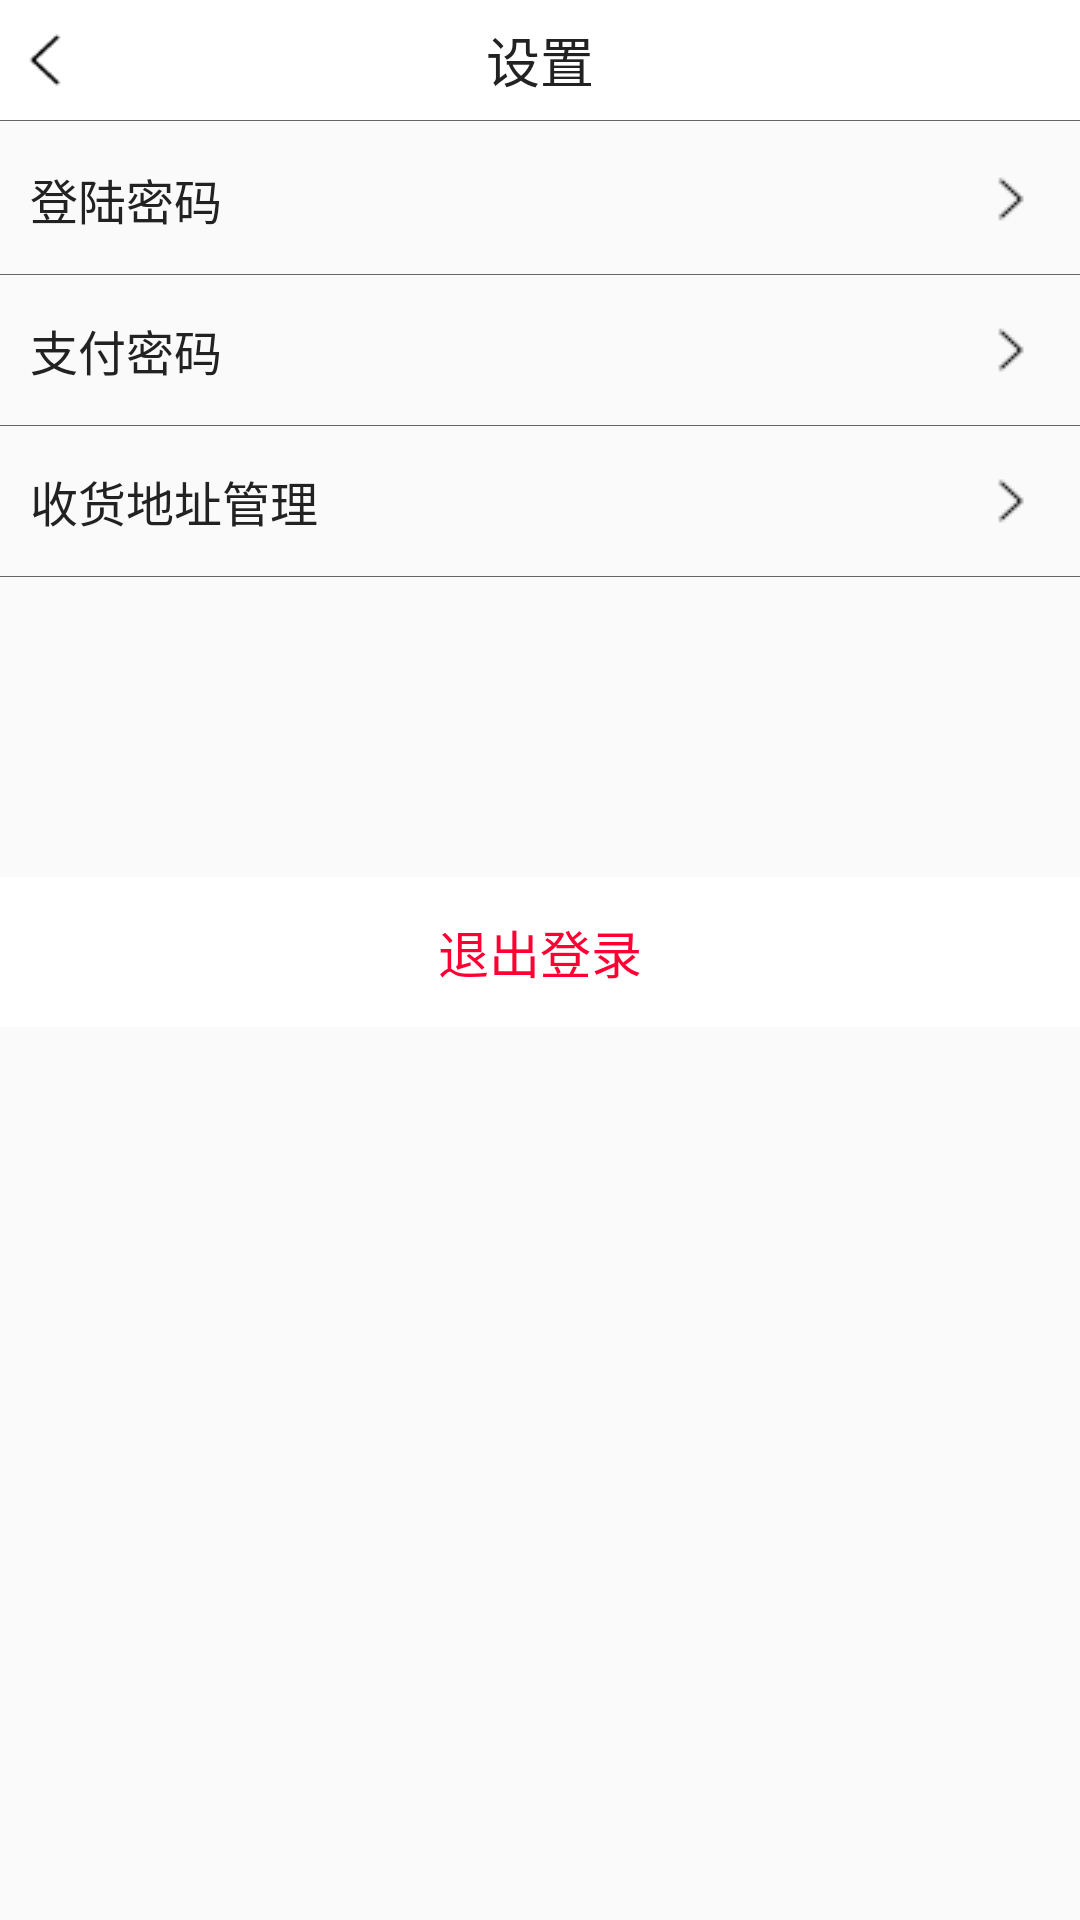

Icon click points for this 1080x1920 phone screenshot, format point (x, y):
to left: point (45, 60)
